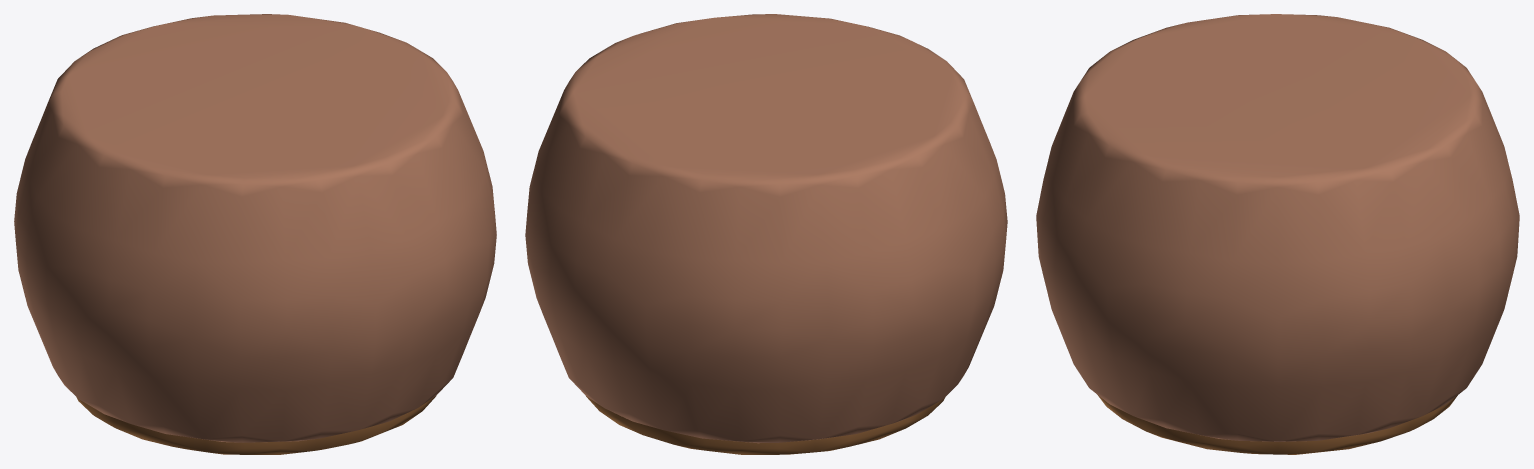
The model's file is stool_05_brown.fbx.
3 renders of one model, left to right at view 1: azimuth 30°, elevation 25°; view 2: azimuth 150°, elevation 25°; view 3: azimuth 270°, elevation 25°, orthographic.
Parts seen in each view (by area): view 1: stool_05_brown; view 2: stool_05_brown; view 3: stool_05_brown.
Boxes of the visible parts, left/top/right/bottom form: stool_05_brown: left=14, top=14, right=496, bottom=454; stool_05_brown: left=525, top=14, right=1007, bottom=454; stool_05_brown: left=1036, top=14, right=1519, bottom=454.
Size of the model in its own units: 74.92 by 48.55 by 74.92.
Materials: 2 (2 with a texture image).
